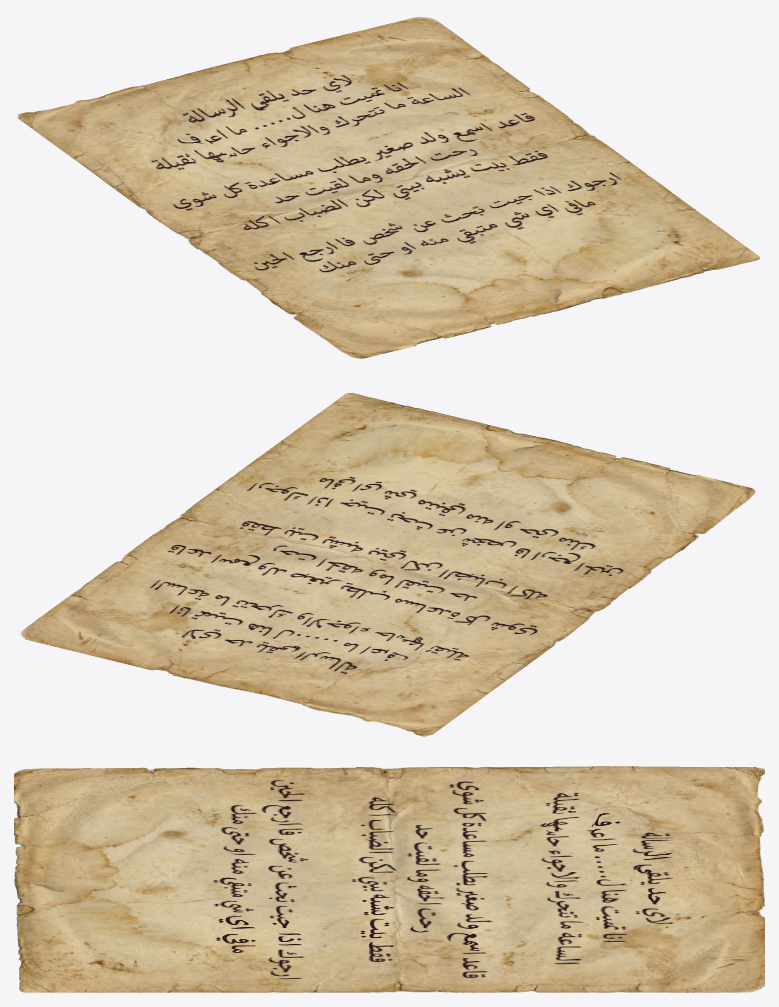
Rendered from NOTE 2 (1).fbx.
The picture shows the model from 3 angles, top to bottom: view 1: azimuth 30°, elevation 25°; view 2: azimuth 150°, elevation 25°; view 3: azimuth 270°, elevation 25°; orthographic projection. The views are drawn at different scales.
Parts seen in each view (by area): view 1: pCube1; view 2: pCube1; view 3: pCube1.
Boxes of the visible parts, x1=… form: pCube1: x1=17, y1=17, x2=760, y2=358; pCube1: x1=20, y1=393, x2=755, y2=736; pCube1: x1=14, y1=766, x2=764, y2=992.
Bounding box in the file's own units: 0.7115 × 0.0132 × 1.
1 material, 1 textured.
